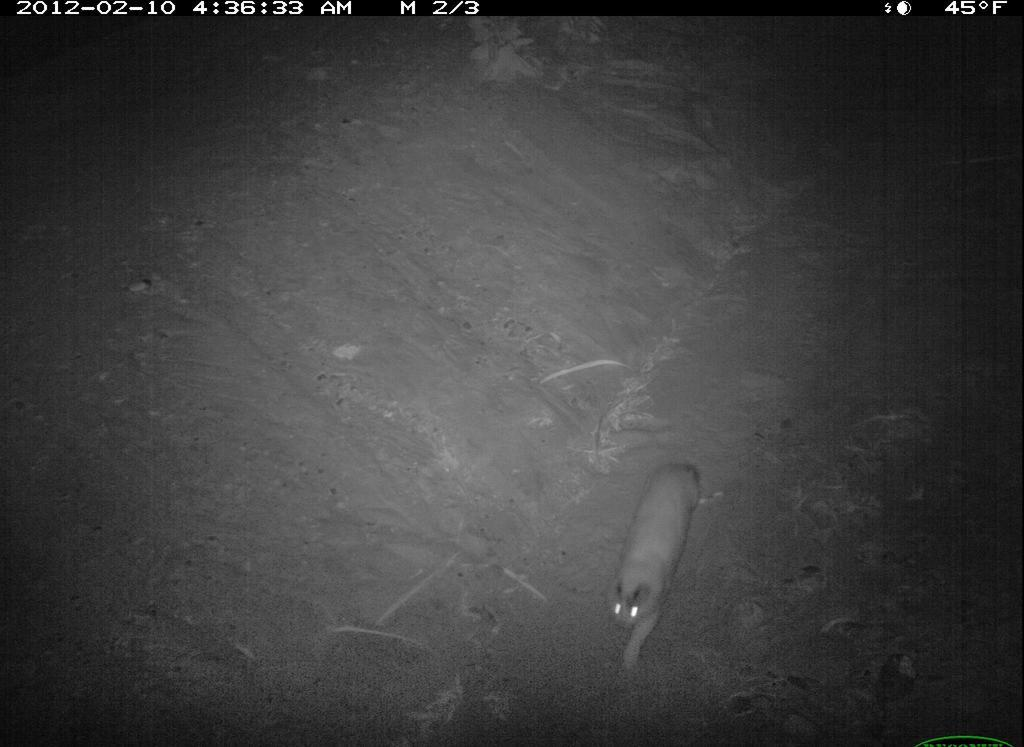cat: (596, 443, 716, 684)
